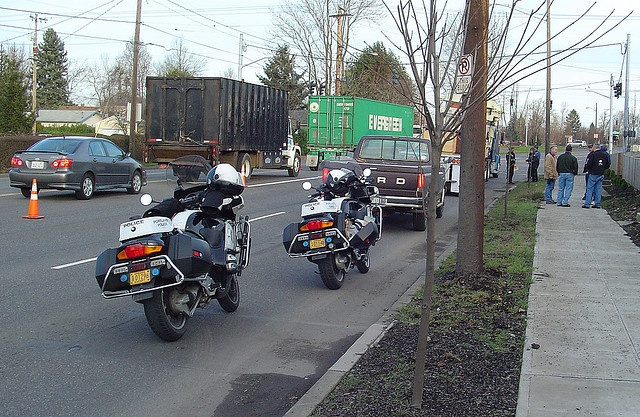non-vehicle: (91, 150, 253, 342), (280, 167, 390, 289)
